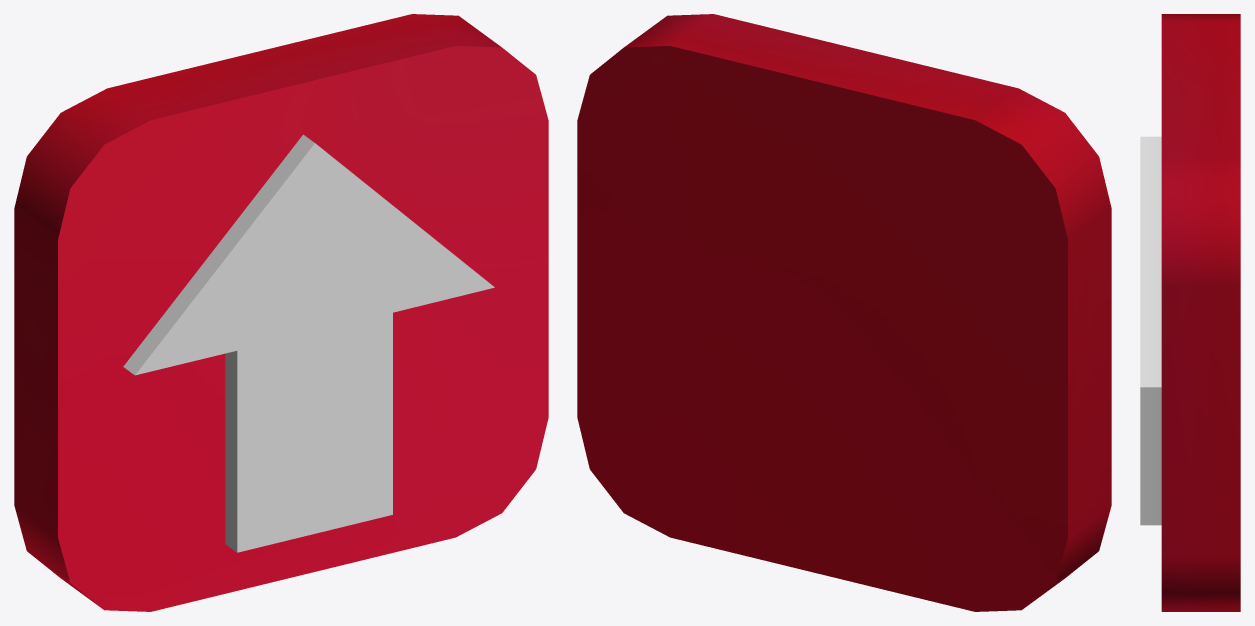
File: 6afb1e6c-72b8-441e-9aec-6ecbcc251647.glb
The picture shows the model from 3 angles, left to right: view 1: azimuth 30°, elevation 25°; view 2: azimuth 150°, elevation 25°; view 3: azimuth 270°, elevation 25°; orthographic projection. The views are drawn at different scales.
Visible parts, largest first — view 1: arrowButtonRoundedRed; view 2: arrowButtonRoundedRed; view 3: arrowButtonRoundedRed.
Part boxes in pixels (bbox=[...]): arrowButtonRoundedRed: bbox=[14, 14, 548, 611]; arrowButtonRoundedRed: bbox=[577, 14, 1111, 611]; arrowButtonRoundedRed: bbox=[1140, 14, 1240, 611].
Size of what is drawn, in the model's own units: 0.2013 by 0.1928 by 0.0393.
Materials: 1 (1 with a texture image).
